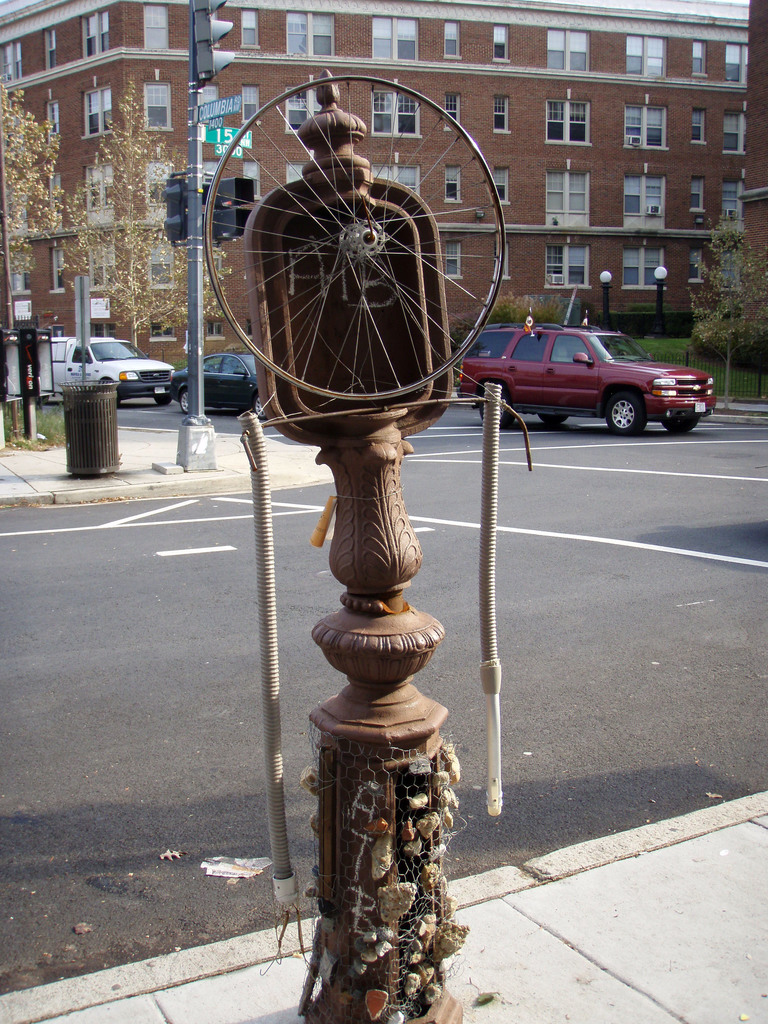Car: (456, 322, 719, 434), (168, 352, 271, 418)
